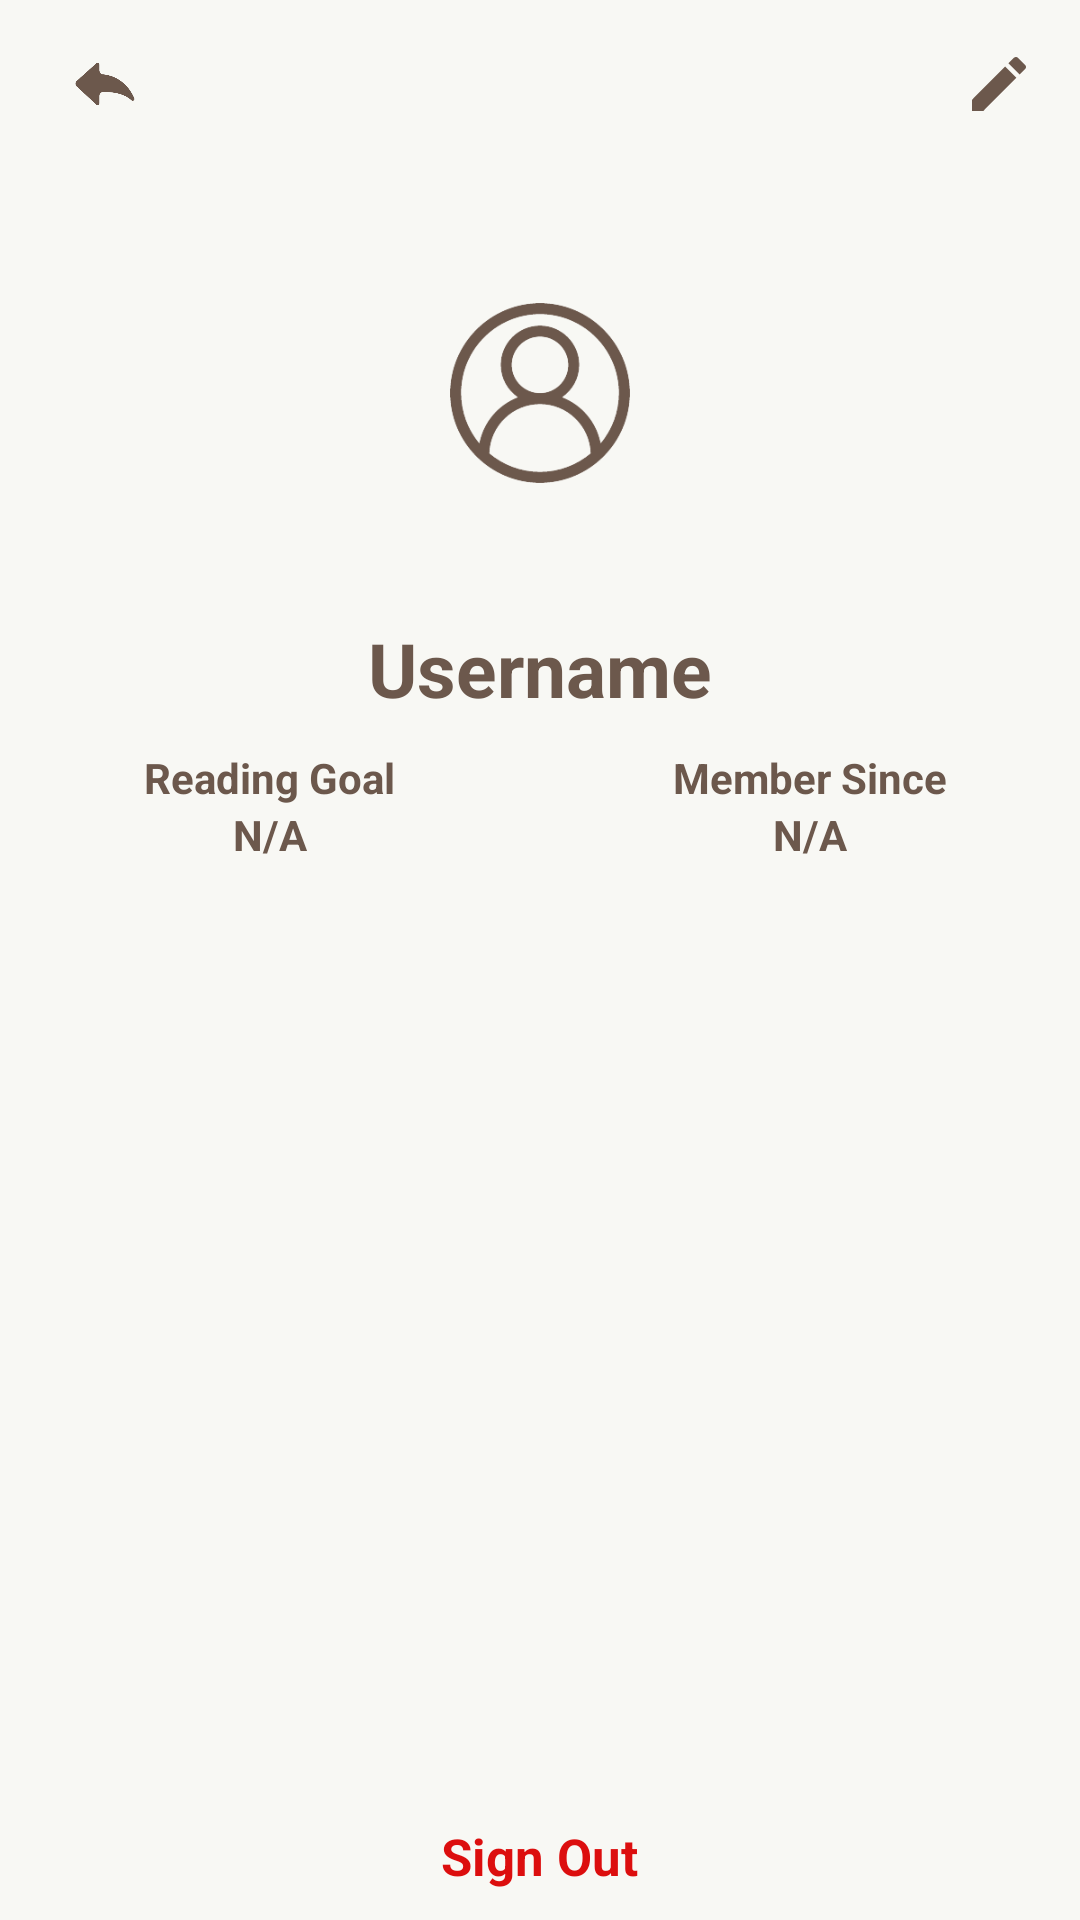

Locate icon controls on the screen. Image size 1080×1920, boxes as {"x1": x1, "y1": y1, "x2": x2, "y2": y2}.
back: {"x1": 75, "y1": 63, "x2": 135, "y2": 105}
edit: {"x1": 972, "y1": 57, "x2": 1026, "y2": 111}
